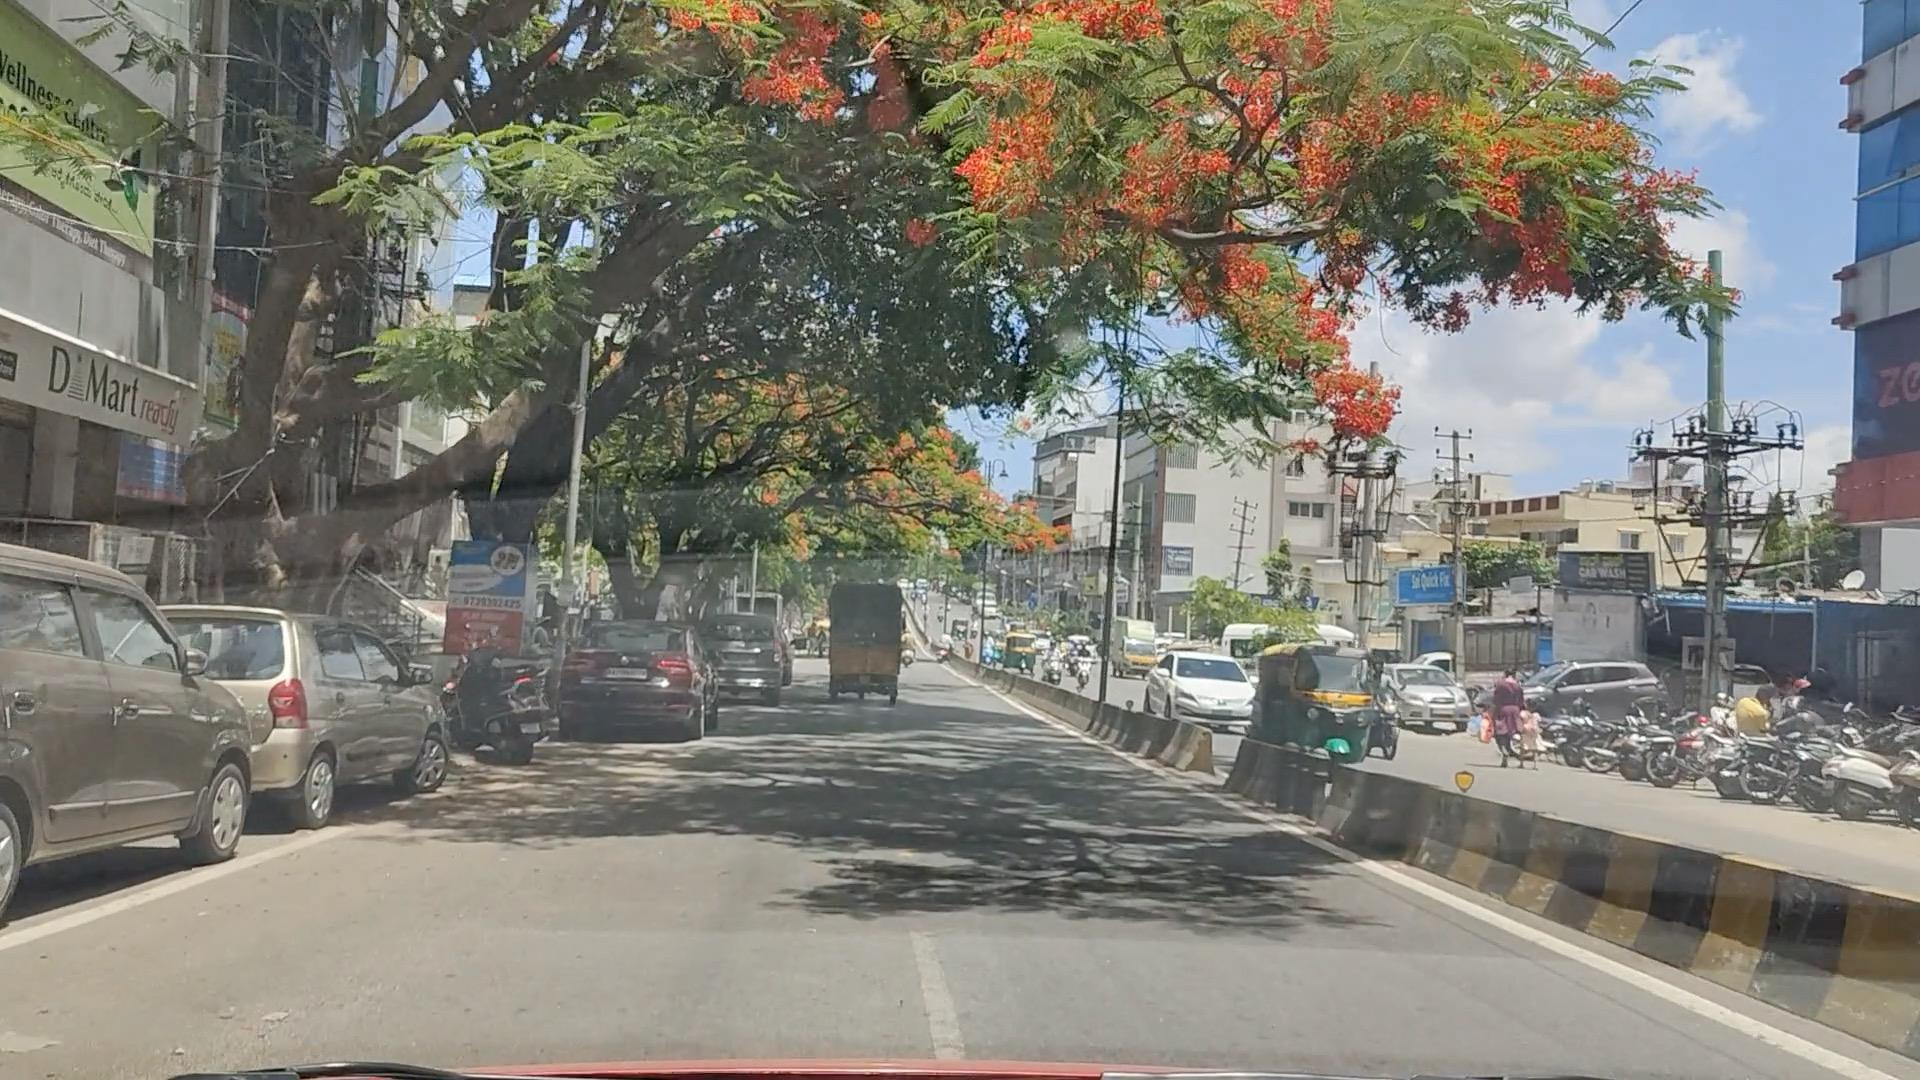HMV: (833, 574, 899, 690)
